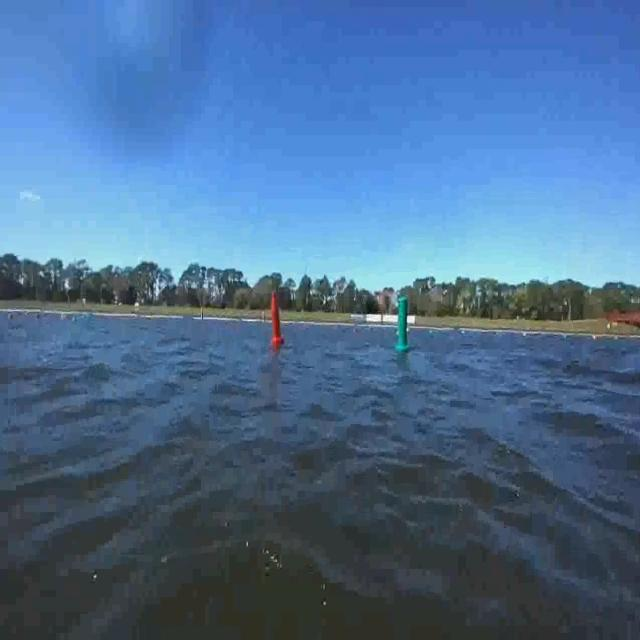green-column-buoy: (397, 299, 413, 355)
red-column-buoy: (270, 292, 286, 346)
